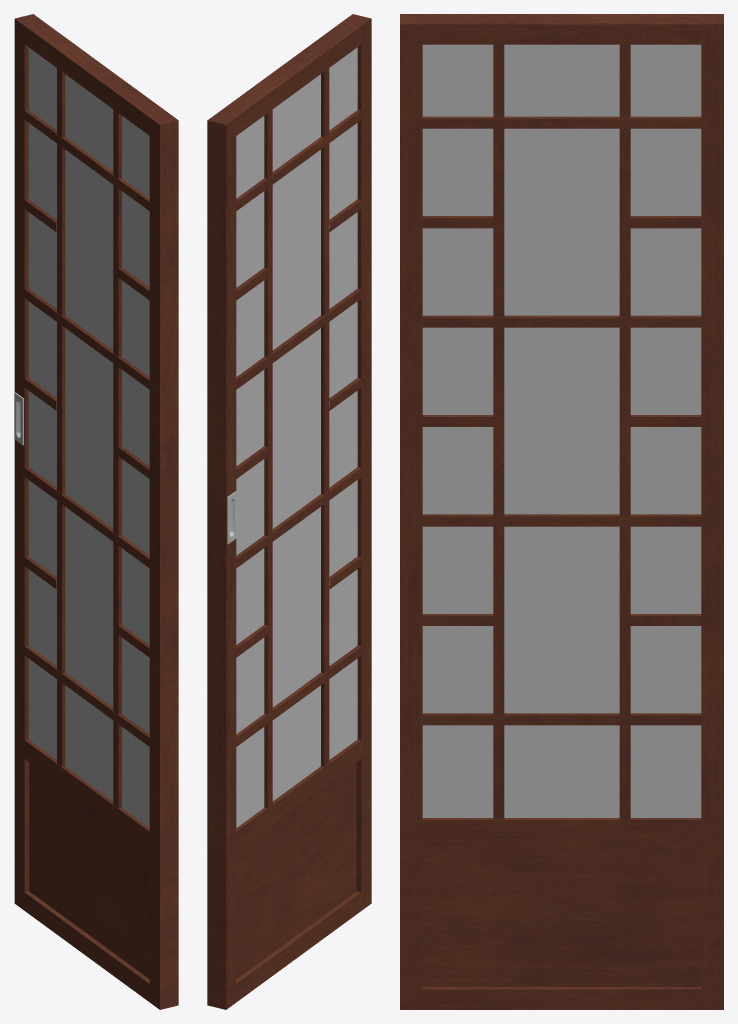
File: SM_InnerDoor01N.fbx
3 renders of one model, left to right at view 1: azimuth 30°, elevation 25°; view 2: azimuth 150°, elevation 25°; view 3: azimuth 270°, elevation 25°, orthographic. The views are drawn at different scales.
Visible parts, largest first — view 1: SM_InnerDoor01N; view 2: SM_InnerDoor01N; view 3: SM_InnerDoor01N.
Part boxes in pixels (x1,y1,x2,y2): SM_InnerDoor01N: [14, 14, 178, 1009]; SM_InnerDoor01N: [207, 14, 371, 1009]; SM_InnerDoor01N: [400, 14, 723, 1009].
Size of the model in its own units: 4.92 by 62.13 by 209.
